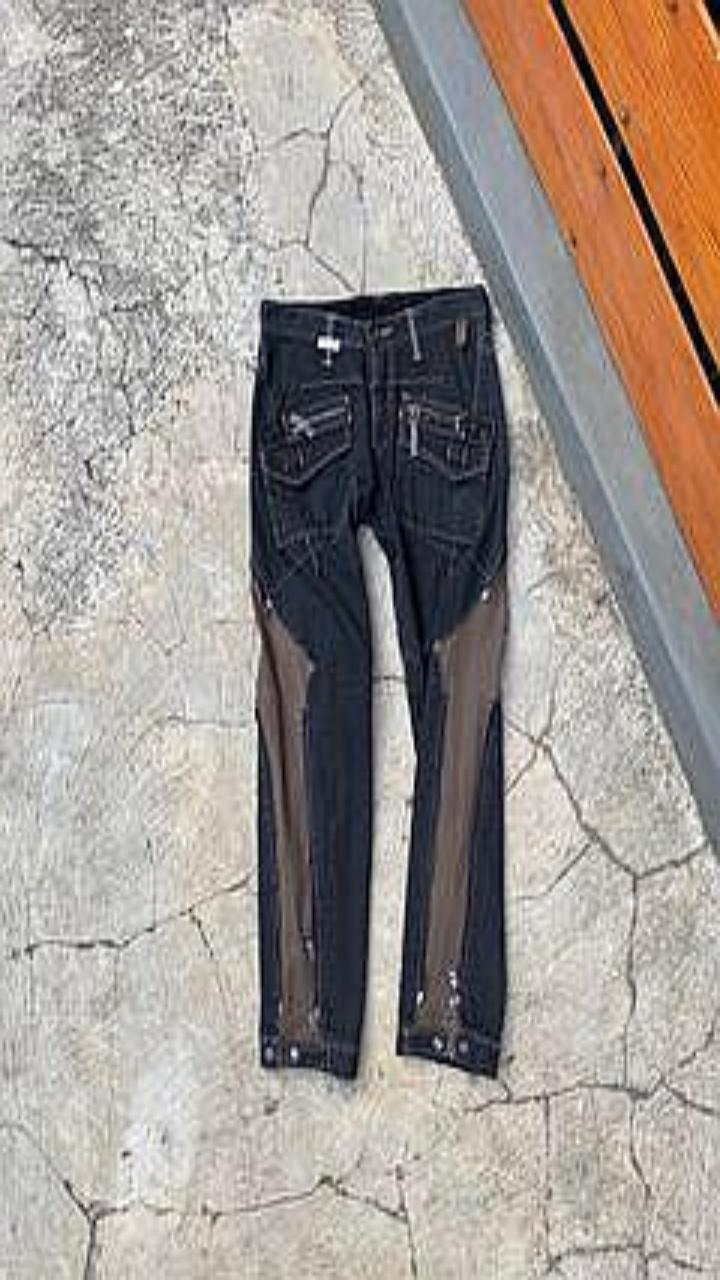Jeans: (250, 284, 508, 1076)
